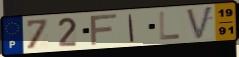2: (57, 17, 79, 48)
7: (25, 17, 51, 51)
F: (89, 12, 120, 47)
I: (127, 13, 136, 43)
L: (158, 10, 183, 42)
V: (185, 5, 215, 42)
